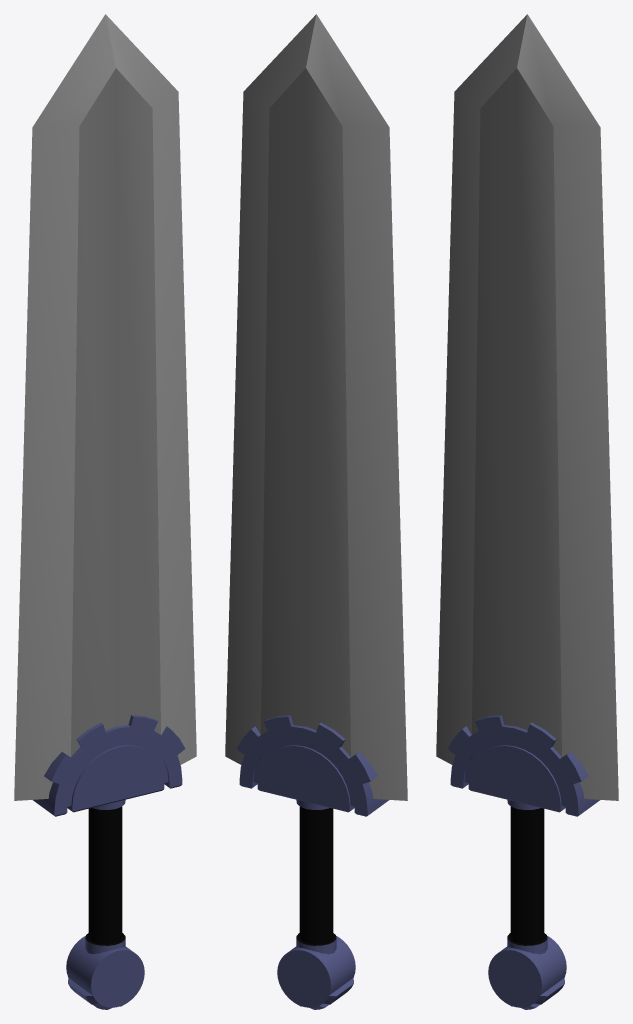
Rendered from dragonSlayer.glb.
3 views of the same model, side by side, from view 1: azimuth 30°, elevation 25°; view 2: azimuth 150°, elevation 25°; view 3: azimuth 330°, elevation 25° (orthographic).
Visible parts, largest first — view 1: Cube; view 2: Cube; view 3: Cube.
Part boxes in pixels (bbox=[...]): Cube: bbox=[14, 14, 196, 1009]; Cube: bbox=[225, 14, 407, 1009]; Cube: bbox=[436, 14, 618, 1009].
Bounding box in the file's own units: 2 × 10.34 × 0.49.
